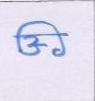o_matra: (52, 22, 68, 59)
